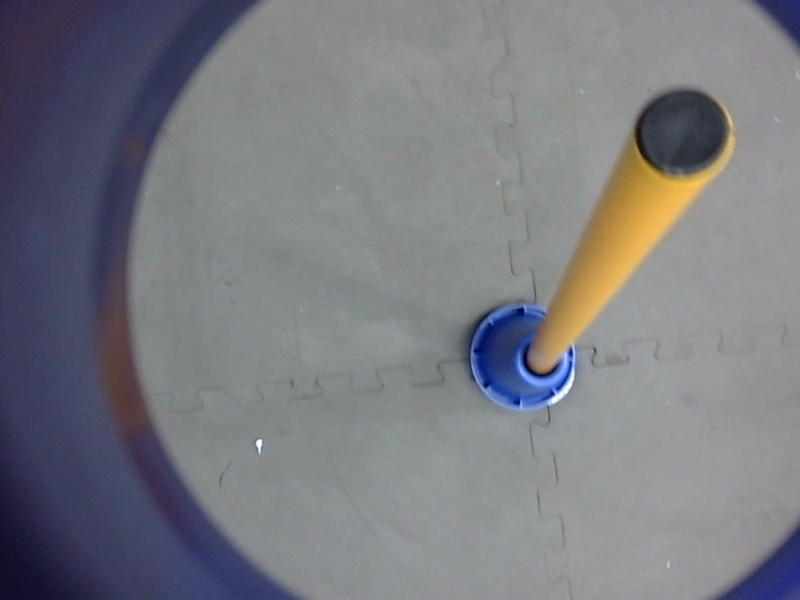tip: (629, 80, 744, 191)
